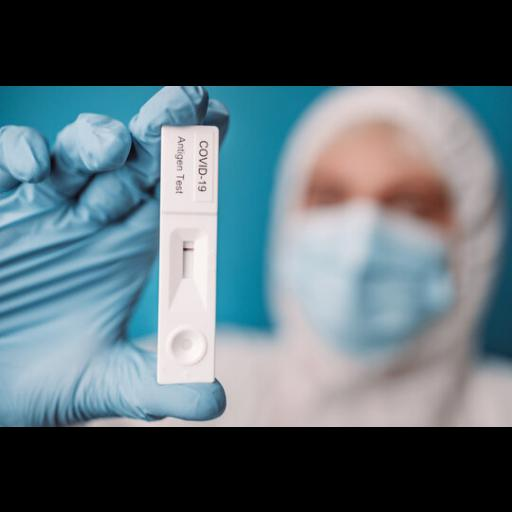Neg: (162, 124, 216, 382)
